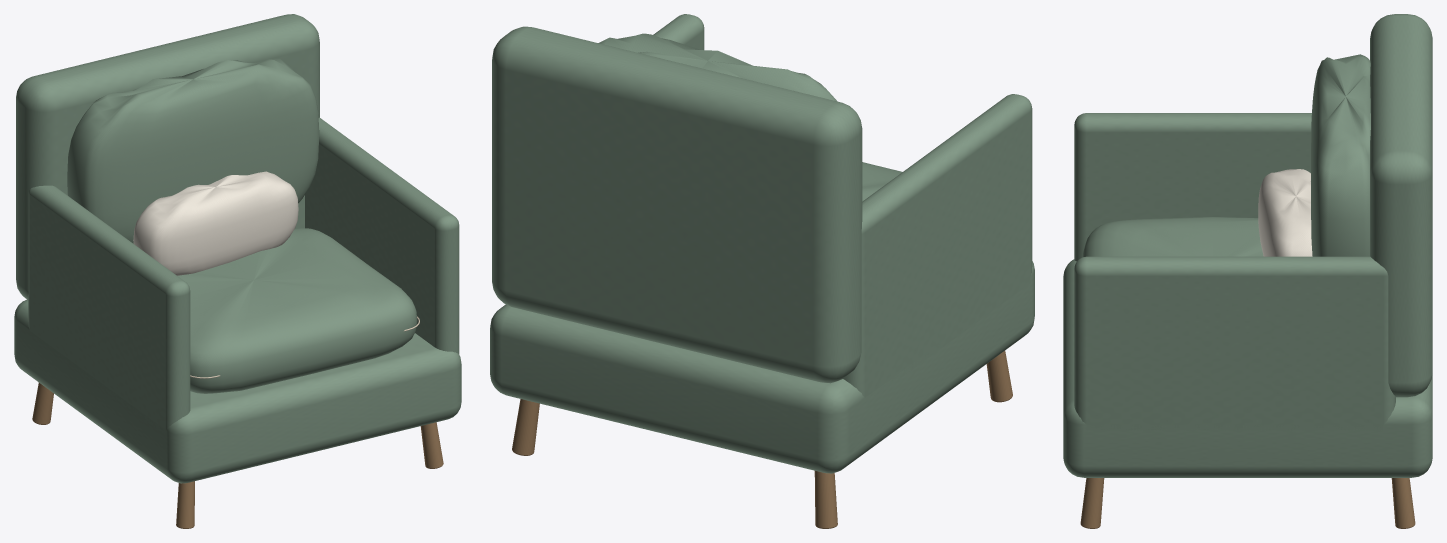
3 views of the same model, side by side, from view 1: azimuth 30°, elevation 25°; view 2: azimuth 150°, elevation 25°; view 3: azimuth 270°, elevation 25° (orthographic). The views are drawn at different scales.
Visible parts, largest first — view 1: upholstered_base, cushion_back_0, seat_0, arm_-1, back_frame, arm_1, scatter_pillow, leg_-1_1, leg_1_1, leg_-1_-1; view 2: back_frame, upholstered_base, arm_-1, cushion_back_0, leg_-1_-1, leg_1_-1, arm_1, leg_-1_1, seat_0; view 3: arm_1, arm_-1, upholstered_base, back_frame, cushion_back_0, seat_0, scatter_pillow, leg_1_-1, leg_1_1.
Part boxes in pixels (x1,y1,x2,y2): upholstered_base: (14,299,461,483); cushion_back_0: (67,58,319,243); seat_0: (178,228,417,393); arm_-1: (28,185,190,434); back_frame: (16,14,319,299); arm_1: (305,117,459,354); scatter_pillow: (133,171,298,275); leg_-1_1: (176,481,194,528); leg_1_1: (420,422,443,468); leg_-1_-1: (32,382,53,424); back_frame: (492,26,862,383); upholstered_base: (490,261,1034,473); arm_-1: (843,94,1032,397); cushion_back_0: (598,33,837,101); leg_-1_-1: (814,471,837,528); leg_1_-1: (512,399,539,455); arm_1: (653,14,704,49); leg_-1_1: (986,350,1012,402); seat_0: (862,162,902,201); arm_1: (1074,256,1395,430); arm_-1: (1074,113,1311,261); upholstered_base: (1063,259,1432,477); back_frame: (1370,14,1432,397); cushion_back_0: (1311,54,1370,256); seat_0: (1083,217,1263,256); scatter_pillow: (1258,169,1312,256); leg_1_-1: (1391,478,1415,528); leg_1_1: (1080,478,1104,528).
Size of the model in its own units: 0.8 by 0.9 by 0.8.
Materials: 4 (3 with a texture image).
